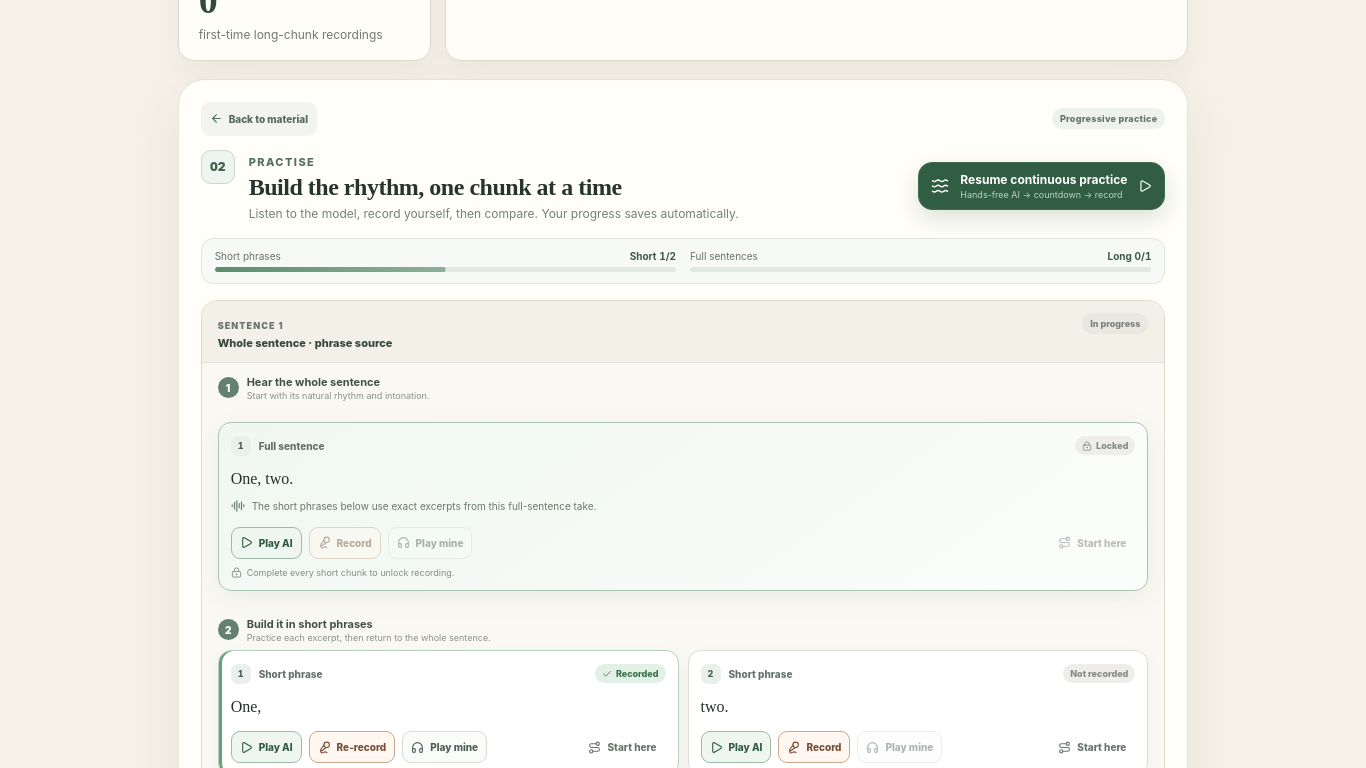
ListenRepeatWorkspace › confirms continuous overwrites once before starting from a recorded chunk
(page scrolled)
Check: the text "Short 1/2" is shown, box [630, 250, 676, 262]
Click the 2nd button "Start here" at (622, 747), box [579, 731, 666, 763]
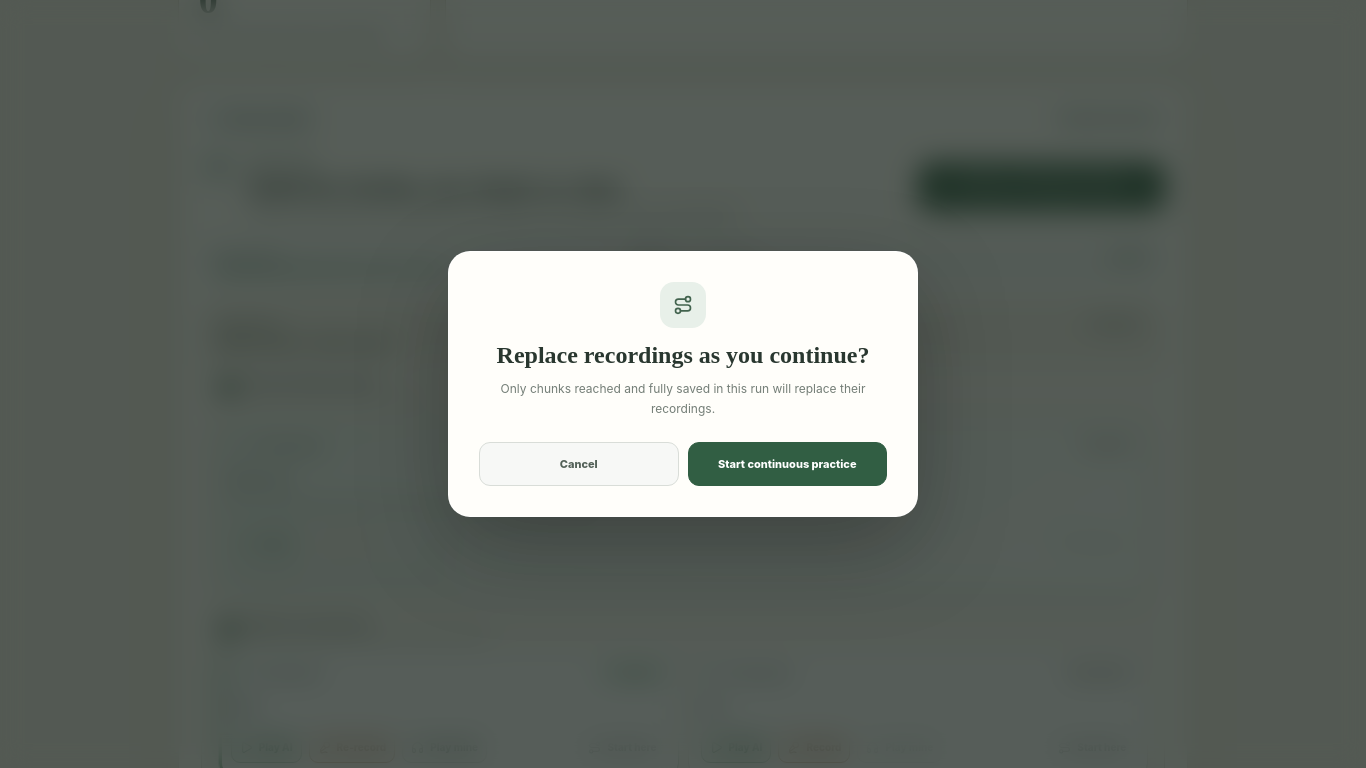
Check: the heading "Replace recordings as you continue?" is shown, box [479, 342, 887, 369]
Check: the text "Only chunks reached and fully saved" is shown, box [501, 381, 865, 416]
